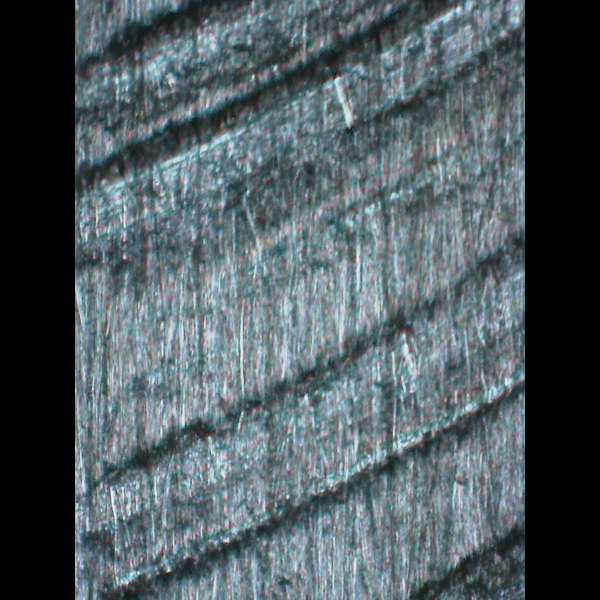d: (75, 232, 519, 600), (79, 4, 524, 258)
